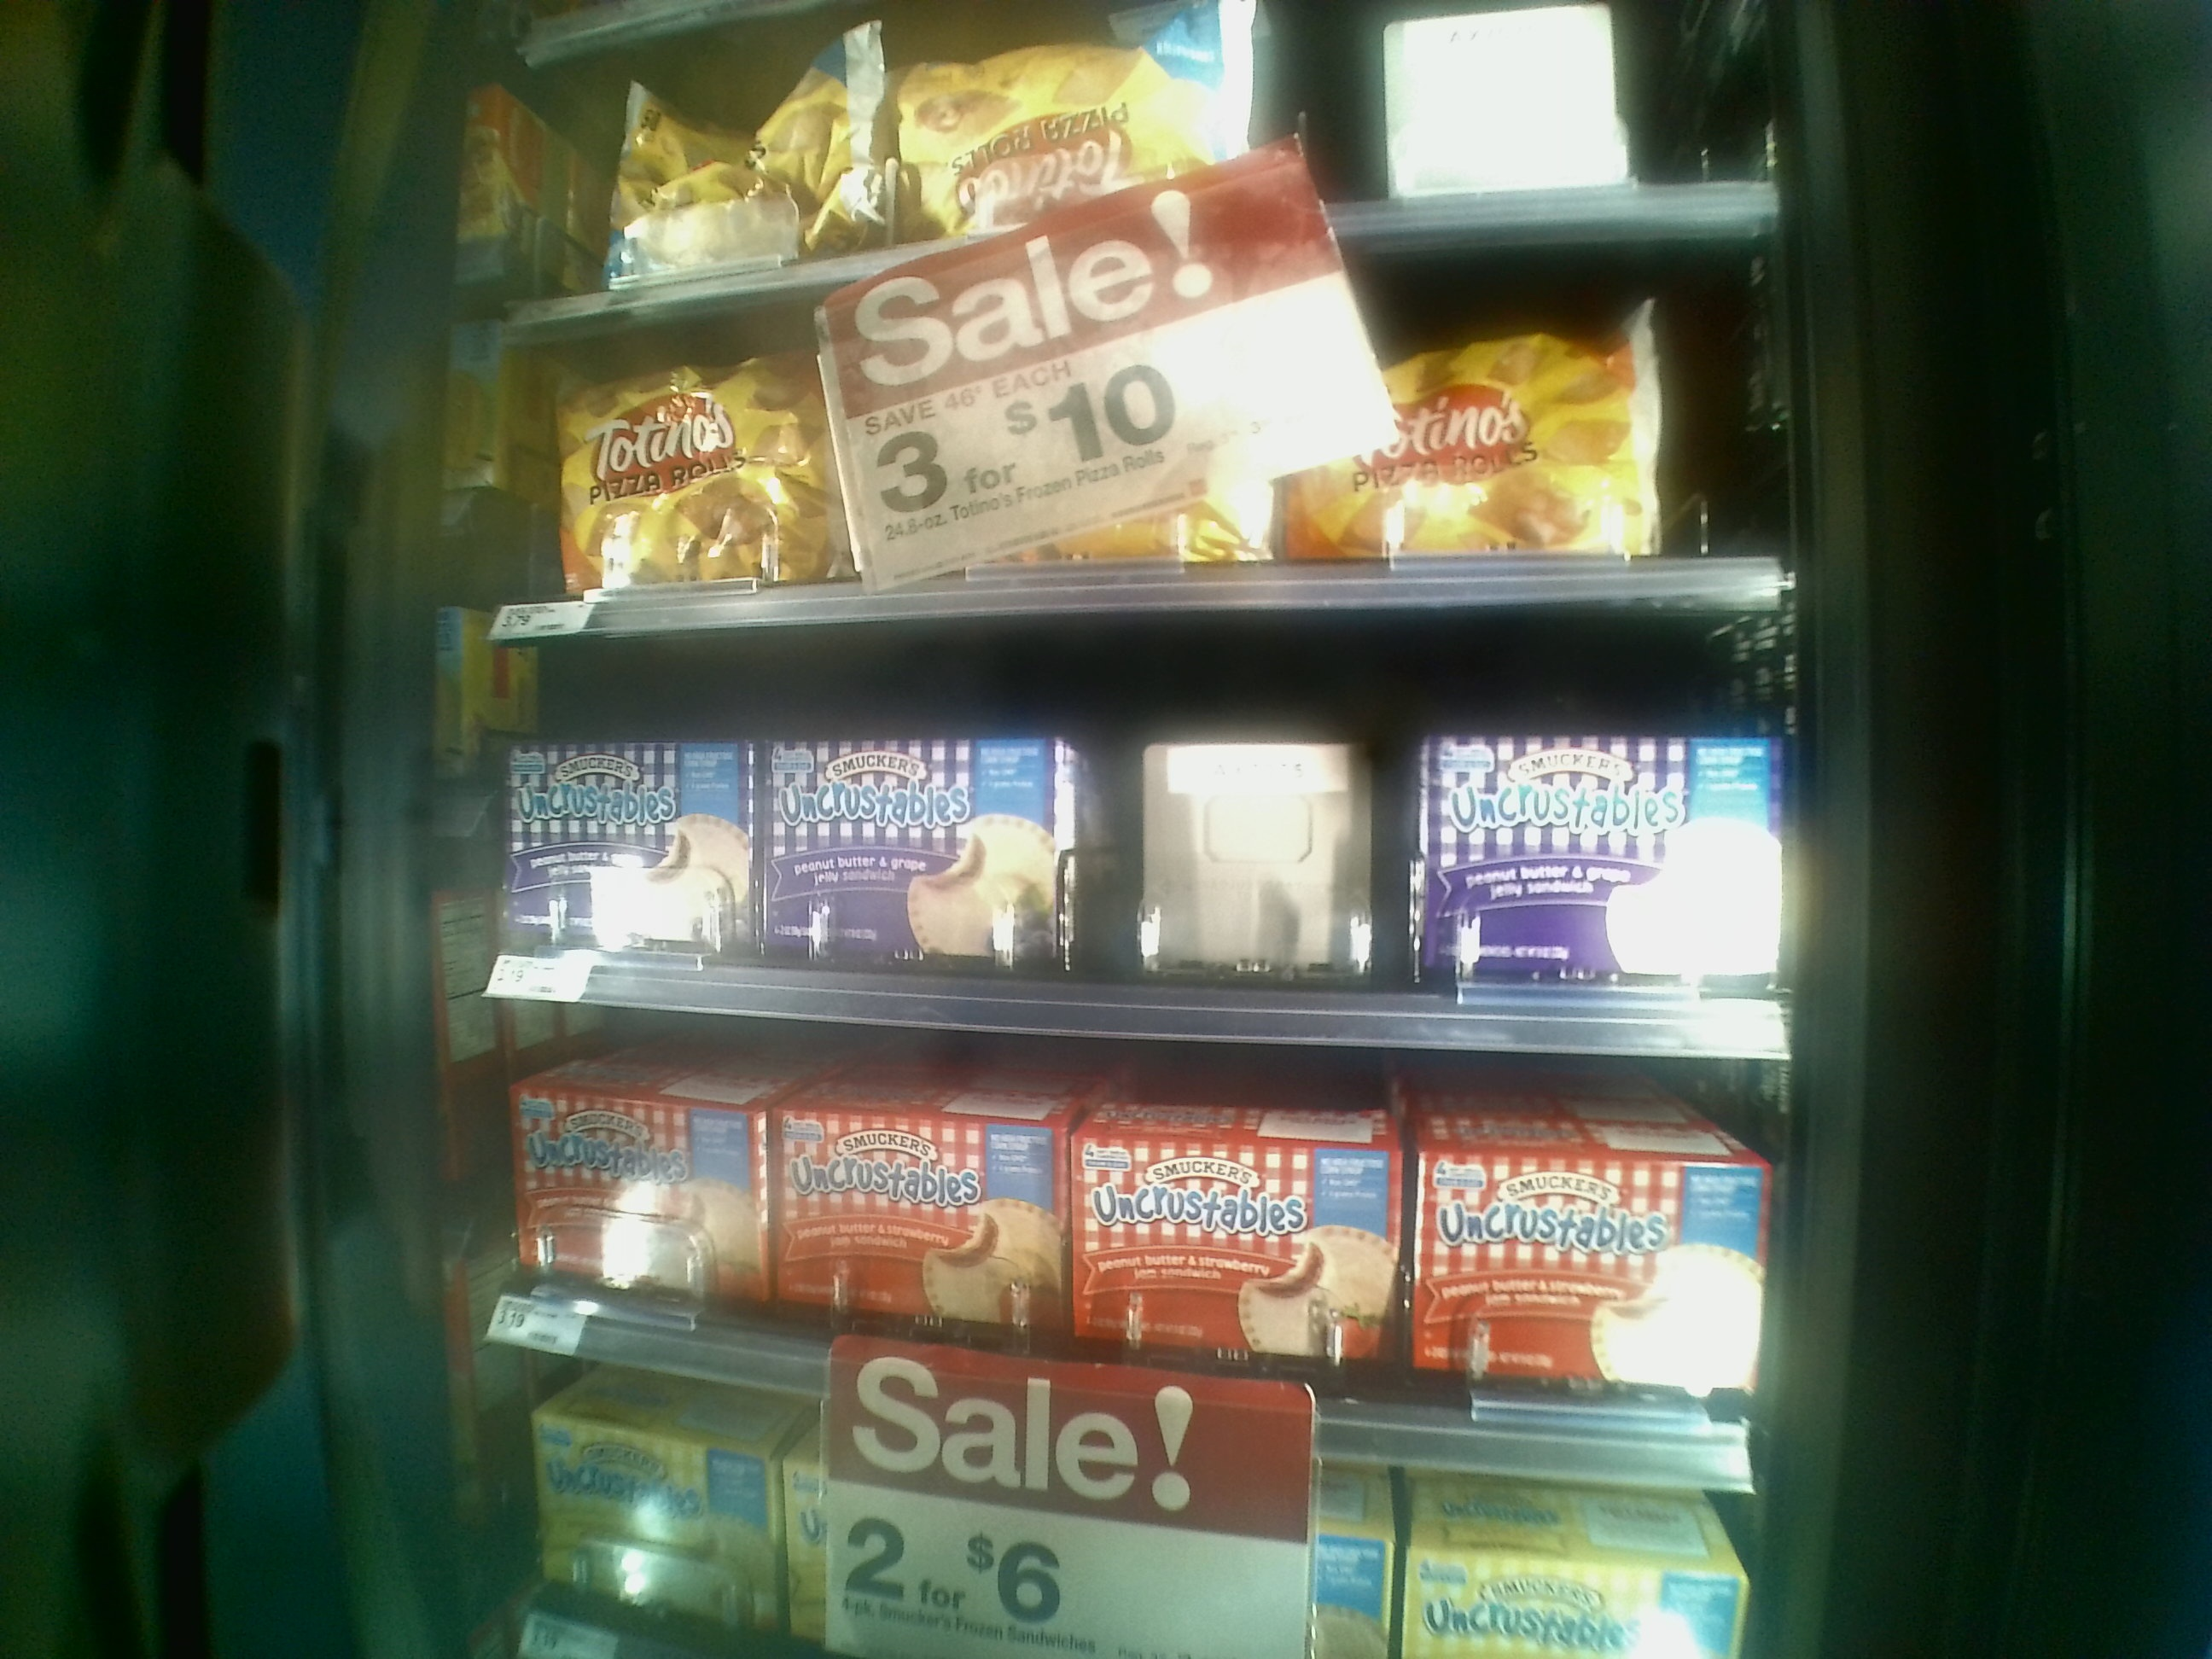shelf: (444, 1000, 1775, 1500), (451, 610, 1806, 1058), (472, 291, 1785, 622)
